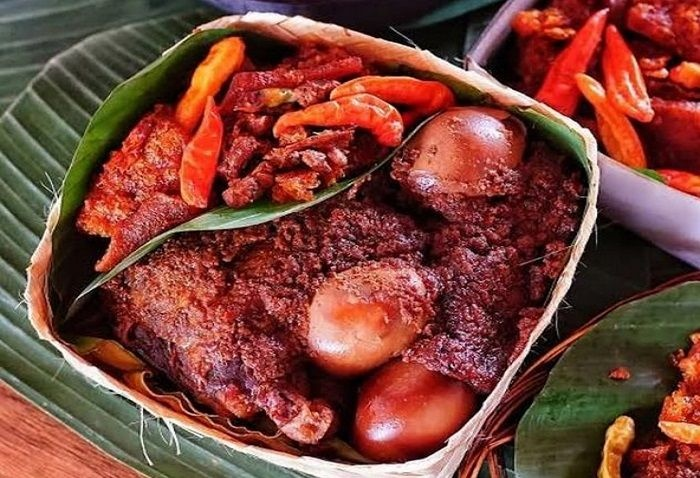gudeg: (61, 15, 526, 435)
